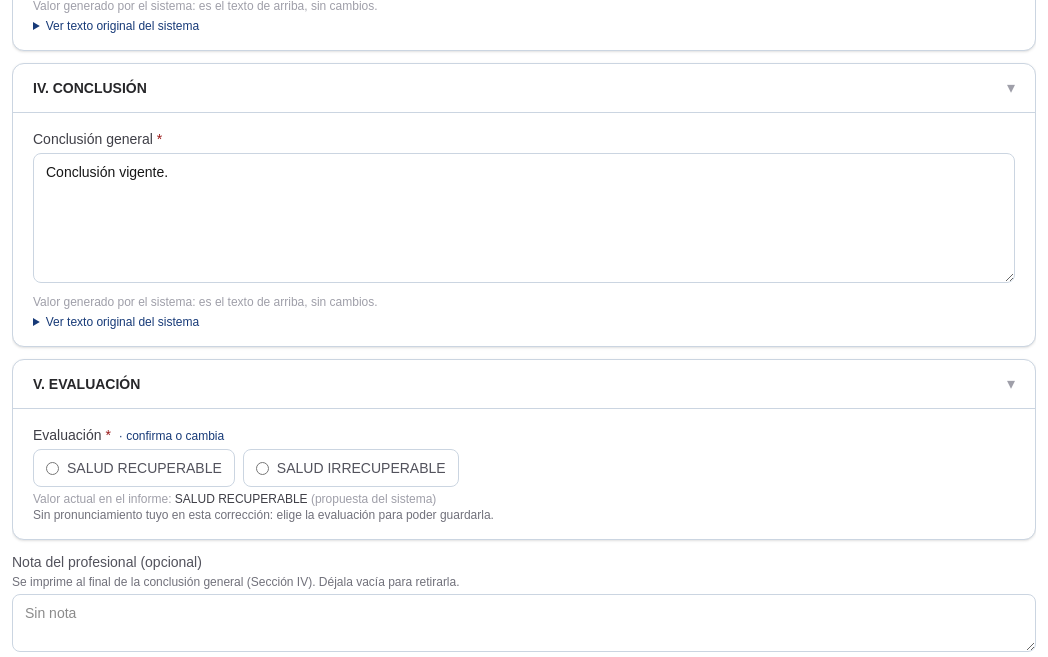
Test case: hidratación del informe efectivo › E · con un valor vigente RECUPERABLE, la evaluación NO dice «por completar»: dice el valor actual
The image size is (1048, 657).
(page scrolled)
Expected: the text "· confirma o cambia" is shown, top-left (119, 428), bottom-right (224, 444)
Expected: the text "Valor actual en el informe:" is shown, top-left (33, 492), bottom-right (175, 506)
# Elegida, desaparece el aviso de pendiente.
Click the radio button labelled "SALUD RECUPERABLE" at (52, 468), box top-left (46, 462), bottom-right (59, 474)
(page scrolled)
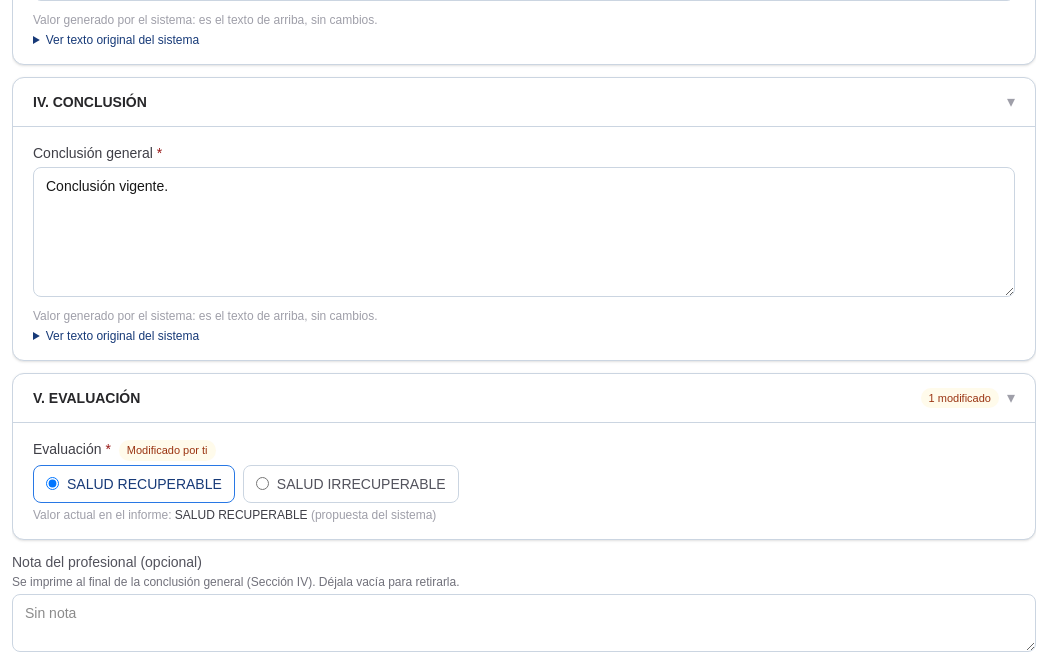
Expected: the text "confirma o cambia" is gone
